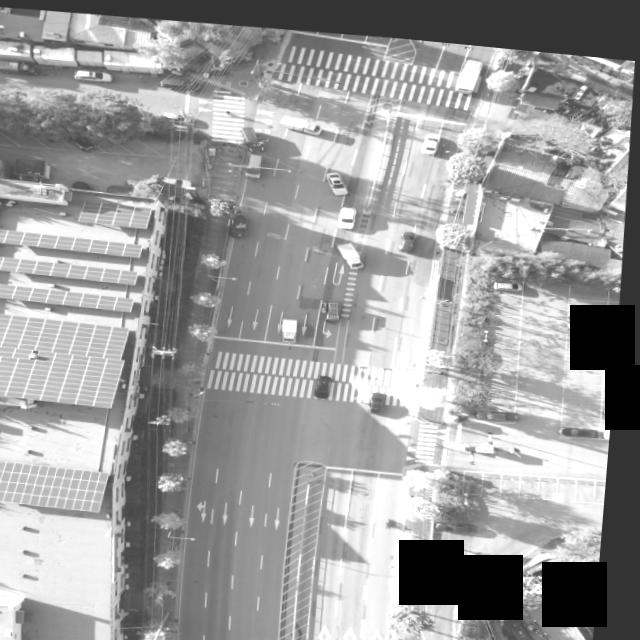car: (238, 116, 269, 146), (65, 128, 101, 152), (441, 510, 491, 525), (327, 162, 354, 188), (159, 72, 202, 88), (481, 397, 526, 411), (572, 307, 616, 321), (160, 168, 197, 184), (319, 365, 341, 391), (164, 106, 199, 121), (249, 146, 266, 173), (566, 413, 604, 425), (341, 199, 360, 223), (77, 67, 114, 79), (496, 269, 529, 282), (373, 380, 391, 403), (402, 221, 420, 243), (425, 123, 443, 144), (573, 297, 601, 307)
small_bus: (453, 46, 484, 85)
small_truck: (337, 231, 370, 260), (281, 109, 324, 129), (0, 57, 38, 73), (283, 309, 306, 335), (326, 290, 349, 315), (232, 206, 252, 233)
